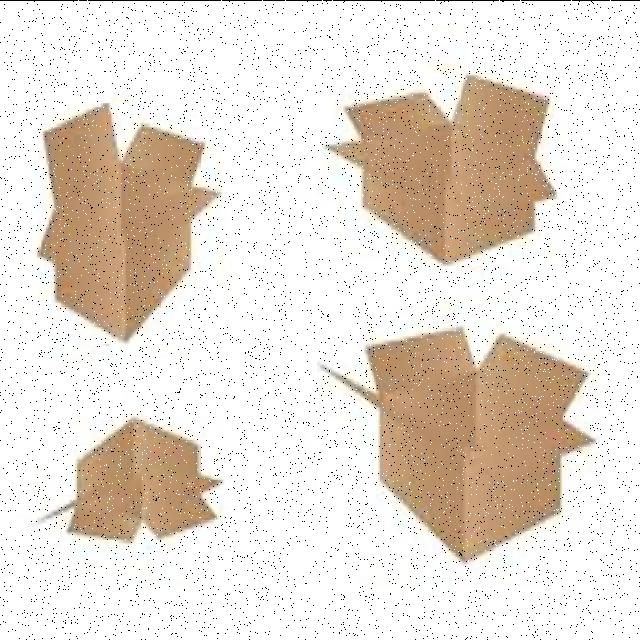defect: (317, 323, 600, 566), (29, 102, 222, 343), (323, 72, 559, 265), (34, 416, 223, 544)
